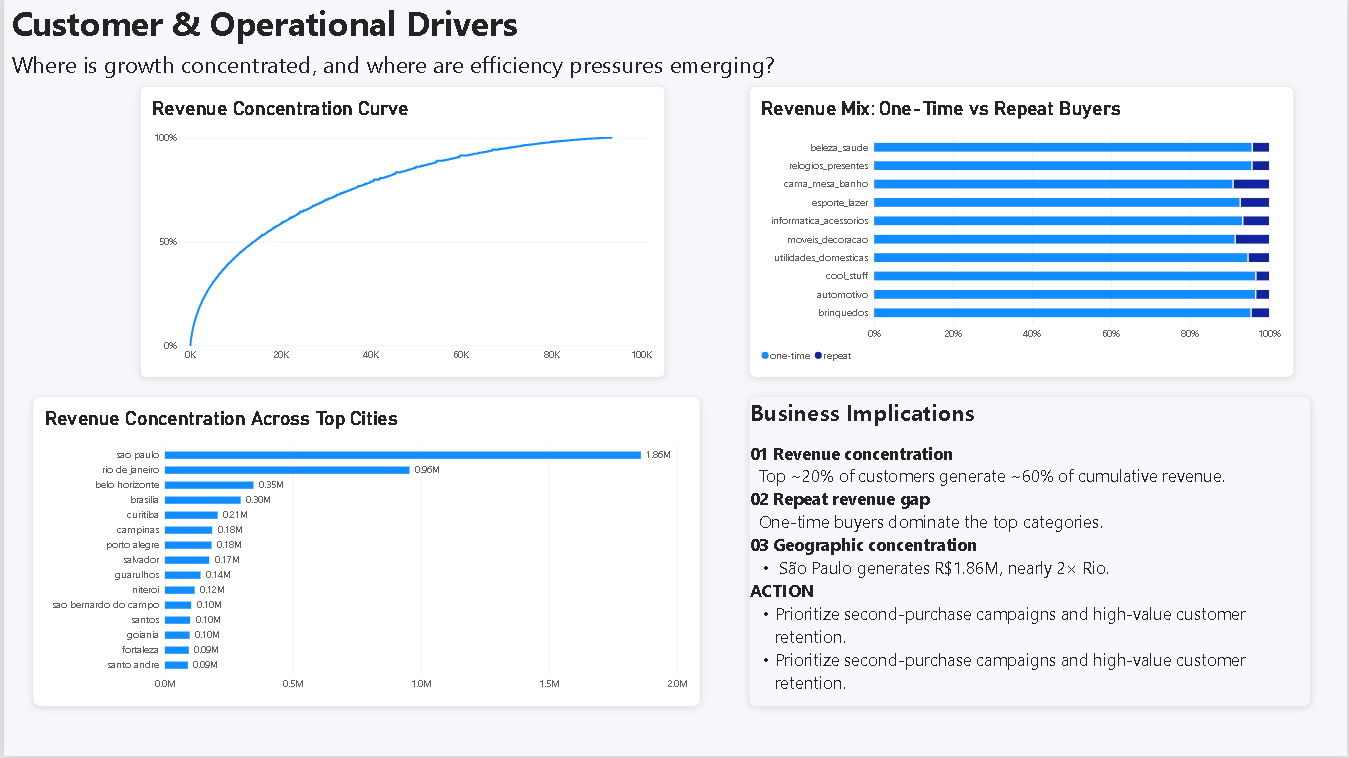

What the dashboard file says about the page in this screenshot:
{"tool":"powerbi","page":{"name":"Customer & Operational Drivers","canvas":[1920,1080],"ordinal":1},"visuals":[{"type":"textbox","box":[10.9,0,742.6,70.8],"z":0},{"type":"textbox","box":[10.3,70,1117.7,45.3],"z":1000},{"type":"lineChart","title":"Revenue Concentration Curve","fields":{"Category":["Revenue Concentration.Customer Rank"],"Y":["Sum(Revenue Concentration.cumulative_revenue_pct)"]},"box":[194.3,123.5,749.2,415.8],"z":2000},{"type":"hundredPercentStackedBarChart","title":"Revenue Mix: One-Time vs Repeat Buyers","fields":{"Category":["Category Analysis.product_category_name"],"Series":["Category Analysis.customer_type"],"Y":["Sum(Category Analysis.total_revenue)"]},"box":[1064,123.5,778,415.8],"z":3000},{"type":"textbox","box":[1064,566.5,802.6,443],"z":4000},{"type":"clusteredBarChart","title":"Revenue Concentration Across Top Cities","fields":{"Category":["Freight Efficiency .customer_city"],"Y":["Sum(Freight Efficiency .total_revenue)"]},"box":[41.8,566.5,953.3,443],"z":5000}]}

Visuals, with their boxes in screenshot pixels (x1, y1, x2, y2), scaled from the page's 1920x1080 canvas onto the 1349x758 screenshot:
textbox: pyautogui.locateOnScreen(8, 0, 529, 50)
textbox: pyautogui.locateOnScreen(7, 49, 793, 81)
"Revenue Concentration Curve" lineChart: pyautogui.locateOnScreen(137, 87, 663, 379)
"Revenue Mix: One-Time vs Repeat Buyers" hundredPercentStackedBarChart: pyautogui.locateOnScreen(748, 87, 1294, 379)
textbox: pyautogui.locateOnScreen(748, 398, 1311, 709)
"Revenue Concentration Across Top Cities" clusteredBarChart: pyautogui.locateOnScreen(29, 398, 699, 709)
